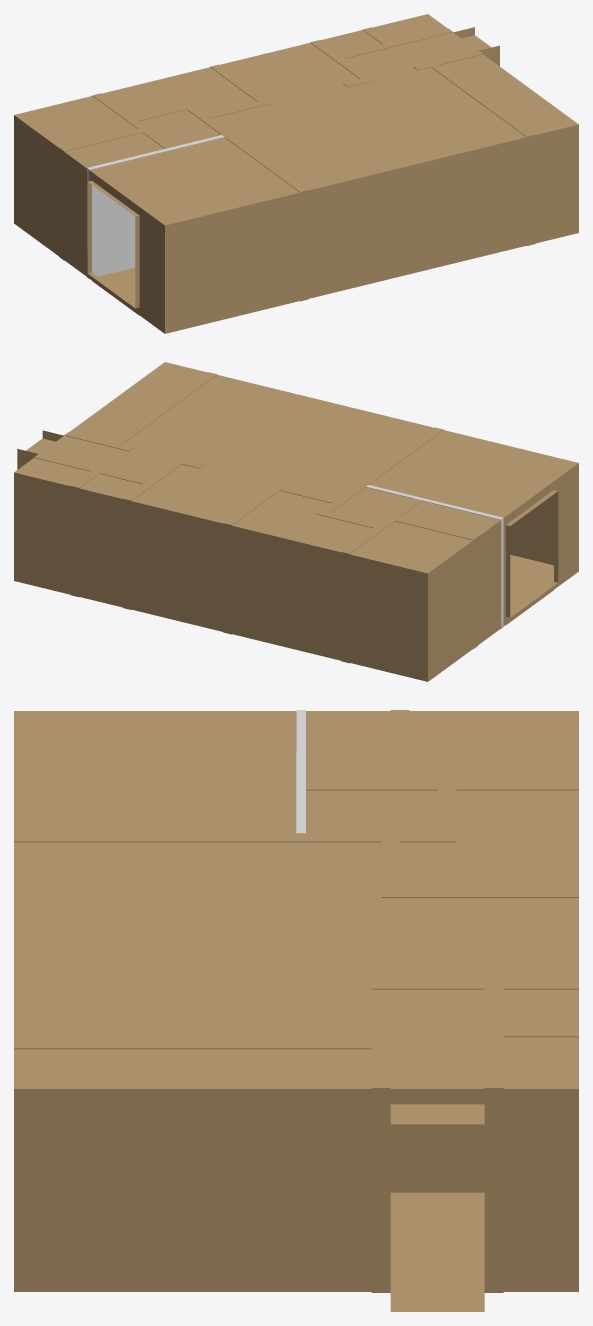
Rendered from model room.fbx.
The picture shows the model from 3 angles, top to bottom: view 1: azimuth 30°, elevation 25°; view 2: azimuth 150°, elevation 25°; view 3: azimuth 270°, elevation 25°; orthographic projection. The views are drawn at different scales.
Parts seen in each view (by area): view 1: Cube.005, Cube.001, Plane, Plane.003, Plane.001; view 2: Cube.001, Cube.005, Plane, Plane.001, Plane.003; view 3: Cube.001, Cube.005, Plane.001, Plane, Plane.003.
Part boxes in pixels (box(x1,y1,x2,y2)): Cube.005: box(14, 27, 578, 333); Cube.001: box(14, 14, 578, 303); Plane: box(59, 64, 308, 301); Plane.003: box(87, 135, 224, 278); Plane.001: box(310, 27, 535, 245); Cube.001: box(14, 362, 578, 613); Cube.005: box(14, 430, 578, 681); Plane: box(223, 427, 478, 663); Plane.001: box(34, 372, 217, 609); Plane.003: box(366, 485, 503, 628); Cube.001: box(14, 711, 578, 1291); Cube.005: box(14, 1089, 578, 1311); Plane.001: box(14, 964, 578, 1292); Plane: box(14, 710, 578, 897); Plane.003: box(296, 710, 305, 833).
Bounding box in the file's own units: 1010 × 240 × 600.
